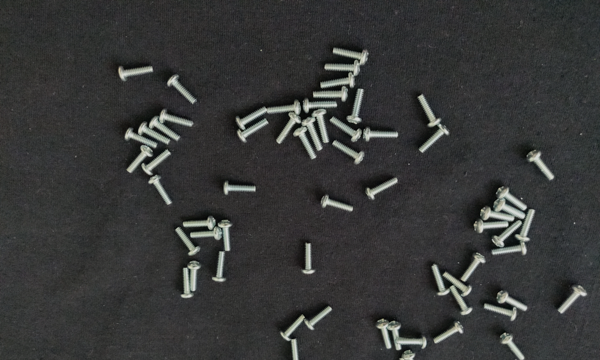shortscrew: (419, 123, 450, 154), (167, 74, 198, 105), (558, 283, 587, 314), (527, 149, 555, 180), (329, 116, 362, 142), (332, 140, 366, 165), (417, 93, 442, 127), (147, 174, 173, 206), (126, 145, 154, 174), (174, 226, 201, 256), (150, 116, 181, 142), (496, 185, 528, 210), (365, 177, 398, 201), (138, 121, 171, 145), (492, 222, 522, 248), (142, 150, 172, 176), (434, 320, 465, 345), (237, 119, 268, 144), (499, 331, 525, 360), (444, 271, 473, 297), (294, 126, 316, 160), (484, 300, 519, 321), (304, 306, 333, 331), (277, 114, 301, 144), (302, 117, 323, 151), (236, 107, 267, 130), (279, 315, 305, 342), (450, 287, 474, 316), (516, 208, 537, 241), (125, 128, 159, 148), (332, 47, 369, 65), (497, 290, 528, 311), (463, 253, 486, 281), (494, 199, 526, 219), (347, 89, 365, 124), (159, 109, 194, 127), (492, 239, 529, 256), (320, 195, 354, 213), (432, 264, 450, 297), (324, 60, 361, 76), (312, 109, 329, 143), (320, 72, 356, 88), (118, 65, 154, 81), (268, 100, 301, 117), (480, 205, 515, 221), (363, 126, 399, 141), (313, 86, 348, 101), (183, 216, 218, 231), (303, 98, 337, 113), (223, 180, 257, 195), (218, 218, 233, 252), (474, 220, 509, 234), (302, 244, 316, 276), (188, 260, 202, 292), (212, 251, 226, 282), (190, 227, 223, 240), (397, 335, 427, 349), (182, 267, 195, 299), (290, 338, 304, 360), (403, 348, 421, 360), (399, 358, 418, 360)
